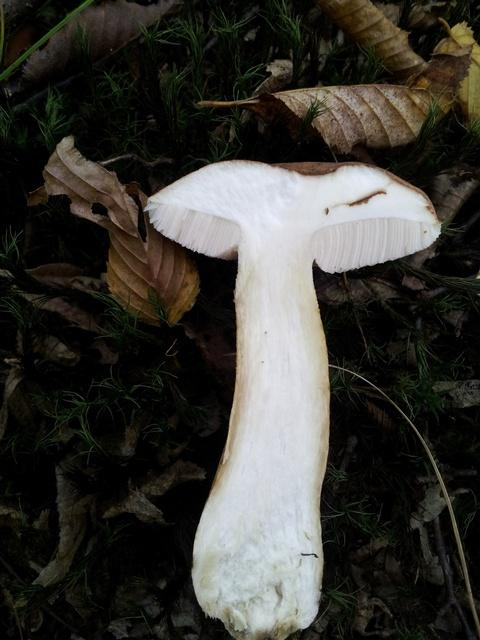Non-edible Mushroom: (142, 157, 442, 638)
